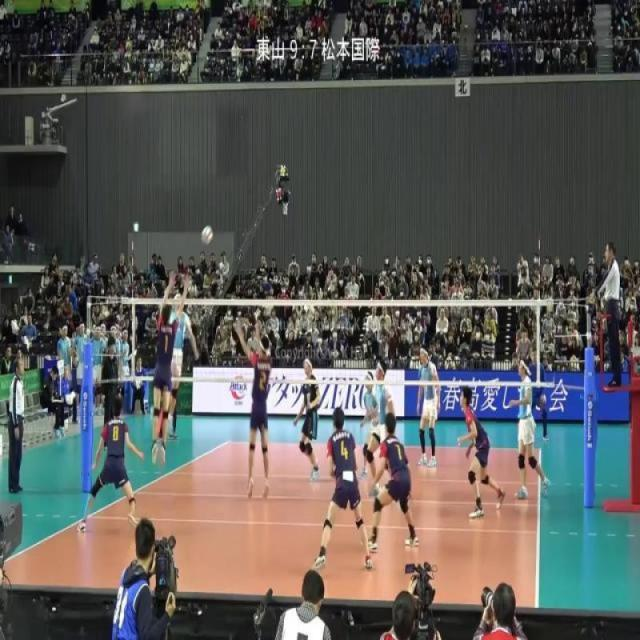volleyball: (201, 224, 214, 246)
